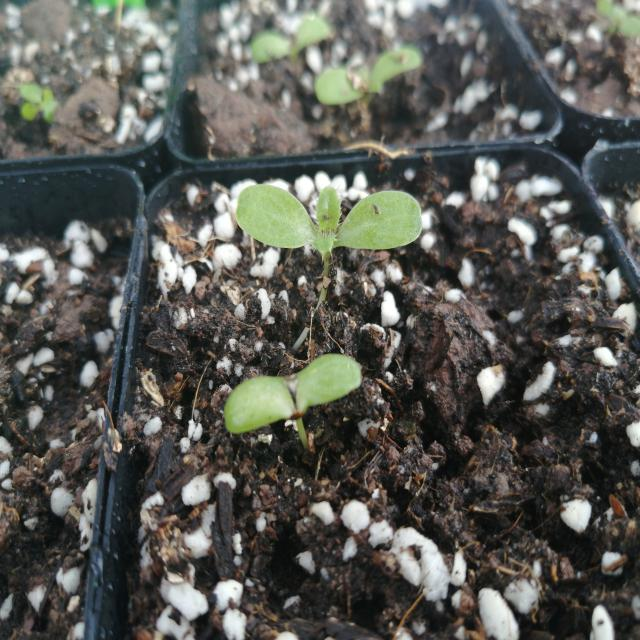field_thistle: (229, 164, 432, 278), (200, 332, 392, 450), (306, 39, 435, 120)
